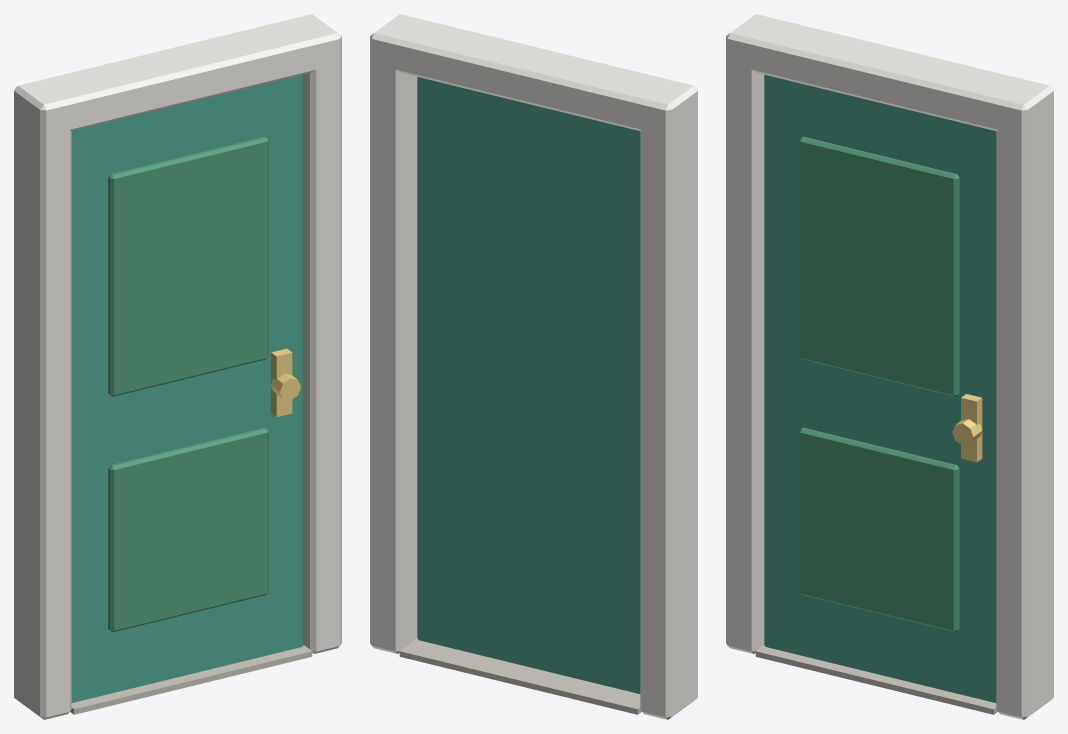
Rendered from prop_door_01.glb.
The picture shows the model from 3 angles, left to right: view 1: azimuth 30°, elevation 25°; view 2: azimuth 150°, elevation 25°; view 3: azimuth 330°, elevation 25°; orthographic projection.
Parts seen in each view (by area): view 1: prop_door_01_leaf, prop_door_01_body; view 2: prop_door_01_leaf, prop_door_01_body; view 3: prop_door_01_leaf, prop_door_01_body.
Part boxes in pixels (box(x1,y1,x2,y2)): prop_door_01_leaf: box(71, 74, 303, 702); prop_door_01_body: box(14, 14, 341, 719); prop_door_01_leaf: box(417, 77, 640, 693); prop_door_01_body: box(370, 14, 697, 719); prop_door_01_leaf: box(764, 74, 996, 702); prop_door_01_body: box(726, 14, 1053, 719).
Bounding box in the file's own units: 1.14 × 2.22 × 0.23.
